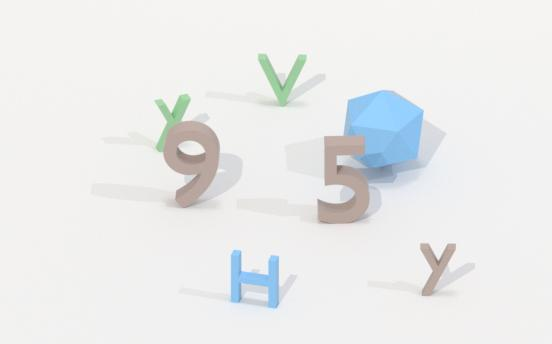5: (309, 134, 375, 225)
9: (161, 122, 223, 209)
H-hoa: (225, 248, 283, 311)
Y: (415, 239, 460, 300), (153, 94, 194, 147)
dagiac: (340, 88, 428, 167)
v: (252, 49, 311, 108)
